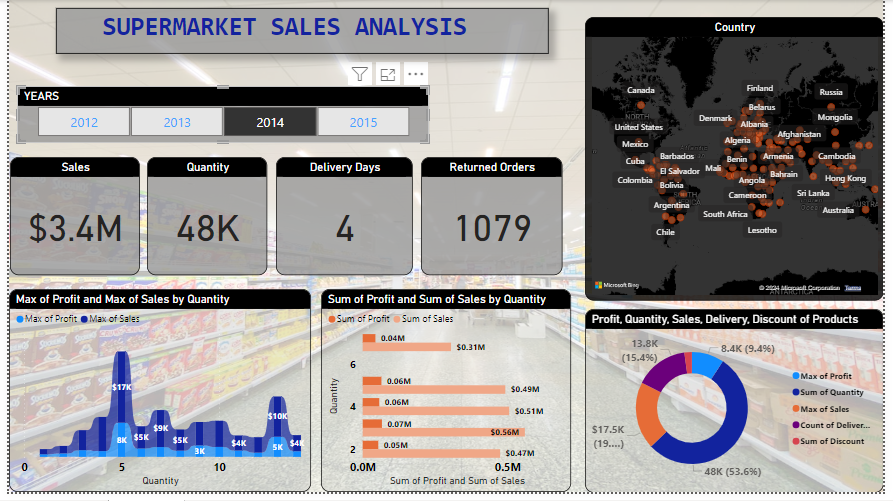

The dashboard page shown, as its layout file describes it:
{"tool":"powerbi","page":{"name":"Page 1","canvas":[1280,720],"ordinal":0},"visuals":[{"type":"card","title":"Sales","fields":{"Values":["Sum(Orders.Sales)"]},"box":[1.7,230.1,189.8,173],"z":0},{"type":"card","title":"Quantity","fields":{"Values":["Sum(Orders.Quantity)"]},"box":[201.6,230.1,176.4,173],"z":1000},{"type":"card","title":"Delivery Days","fields":{"Values":["Avg(Orders.Delivery Days)"]},"box":[391.4,230.1,199.9,173],"z":2000},{"type":"slicer","title":"YEARS","fields":{"Values":["Orders.Year"]},"box":[11.7,125.9,602.9,83.4],"z":3000},{"type":"card","title":"Returned Orders","fields":{"Values":["Sum(Returns.Return Orders)"]},"box":[603,230.1,206.6,173],"z":4000},{"type":"map","fields":{"Category":["Orders.Country"]},"box":[843.3,25.2,436.7,414.9],"z":5000},{"type":"ribbonChart","fields":{"Category":["Orders.Quantity"],"Y":["Max(Orders.Profit)","Max(Orders.Sales)"]},"box":[0,423.3,441.8,297],"z":6000},{"type":"clusteredBarChart","fields":{"Category":["Orders.Quantity"],"Y":["Sum(Orders.Profit)","Sum(Orders.Sales)"]},"box":[456.9,423.3,366.2,297.3],"z":7000},{"type":"donutChart","title":"Profit, Quantity, Sales, Delivery, Discount of Products","fields":{"Y":["Max(Orders.Profit)","Sum(Orders.Quantity)","Max(Orders.Sales)","CountNonNull(Orders.Delivery Days)","Sum(Orders.Discount)"]},"box":[843.3,451.9,436.7,268.8],"z":8000},{"type":"textbox","box":[68.8,11.7,721.5,67.3],"z":9000}]}

Visuals, with their boxes in screenshot pixels (x1, y1, x2, y2), scaled from the page's 1280x720 canvas onto the 893x501 screenshot:
"Sales" card: 1 160 134 280
"Quantity" card: 141 160 264 280
"Delivery Days" card: 273 160 413 280
"YEARS" slicer: 8 88 429 146
"Returned Orders" card: 421 160 565 280
map - Orders.Country: 588 18 892 306
ribbonChart - Orders.Quantity x Max(Orders.Profit): 0 295 308 500
clusteredBarChart - Orders.Quantity x Sum(Orders.Profit): 319 295 574 500
"Profit, Quantity, Sales, Delivery, Discount of Products" donutChart: 588 314 892 500
textbox: 48 8 551 55
